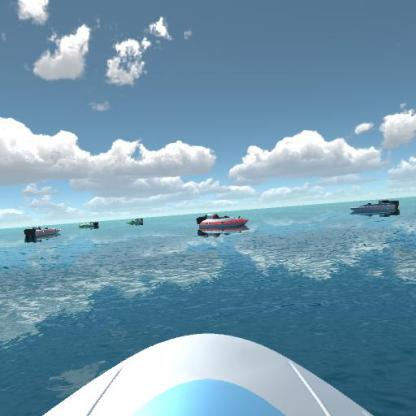usv0: (125, 215, 144, 228), (78, 219, 100, 230)
usv1: (350, 197, 404, 221)
usv3: (191, 209, 253, 233), (20, 223, 62, 243)
